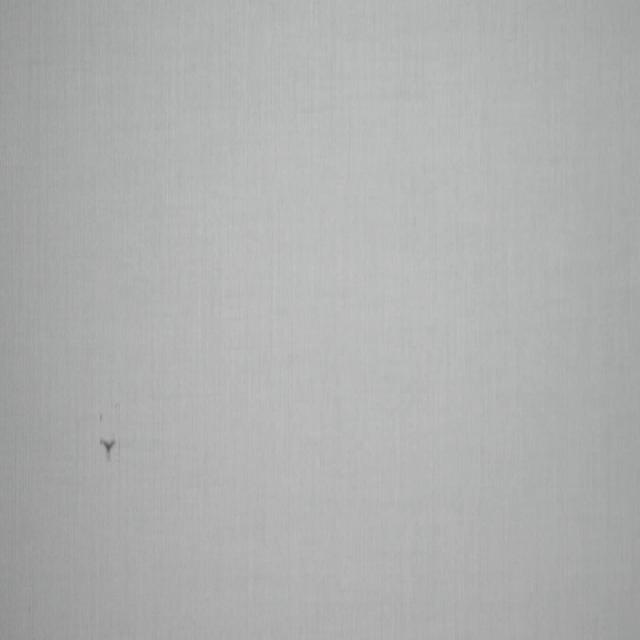dirty: (100, 436, 116, 458)
